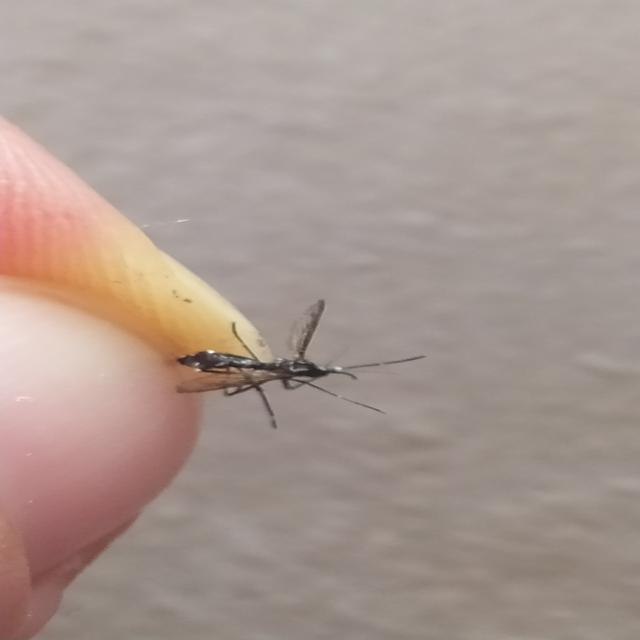albopictus: (151, 289, 438, 429)
